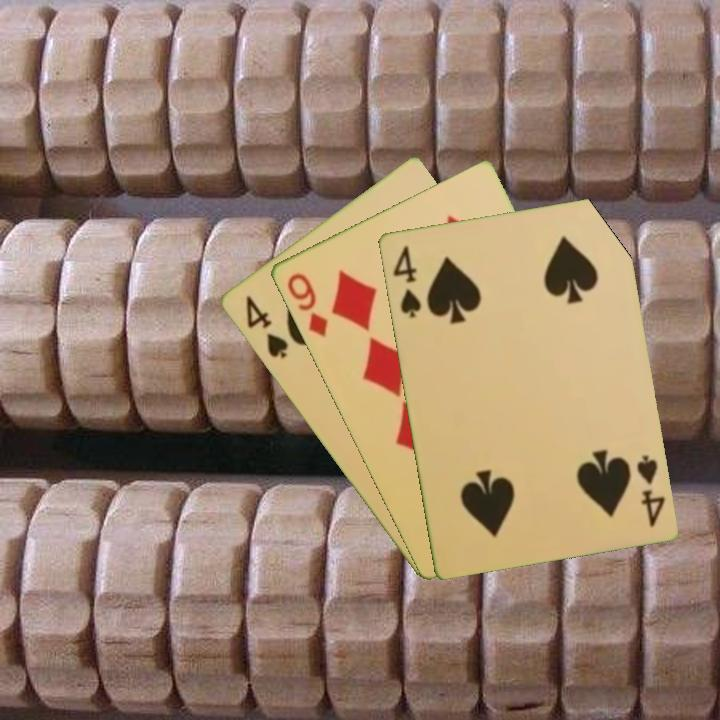4s: (241, 291, 291, 362), (389, 241, 424, 321), (632, 451, 667, 529)
9d: (283, 269, 331, 340)
